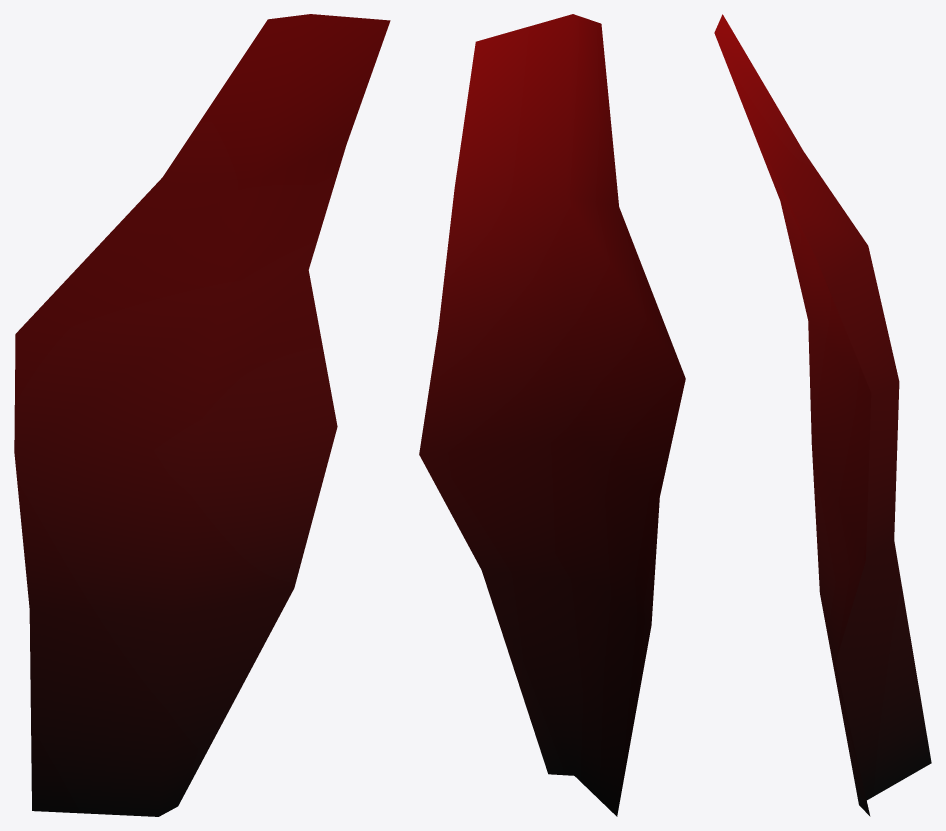
3 views of the same model, side by side, from view 1: azimuth 30°, elevation 25°; view 2: azimuth 150°, elevation 25°; view 3: azimuth 270°, elevation 25° (orthographic). The views are drawn at different scales.
Parts seen in each view (by area): view 1: Cystoseira.006; view 2: Cystoseira.006; view 3: Cystoseira.006.
Part boxes in pixels (<box>): Cystoseira.006: <box>14,14,390,816</box>; Cystoseira.006: <box>419,14,685,816</box>; Cystoseira.006: <box>714,14,931,816</box>.
Bounding box in the file's own units: 0.3434 × 0.8593 × 0.2092.
